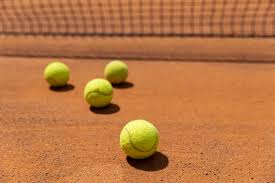tennis_ball: (119, 118, 159, 163), (84, 78, 114, 108), (44, 61, 71, 89), (105, 59, 128, 85)
